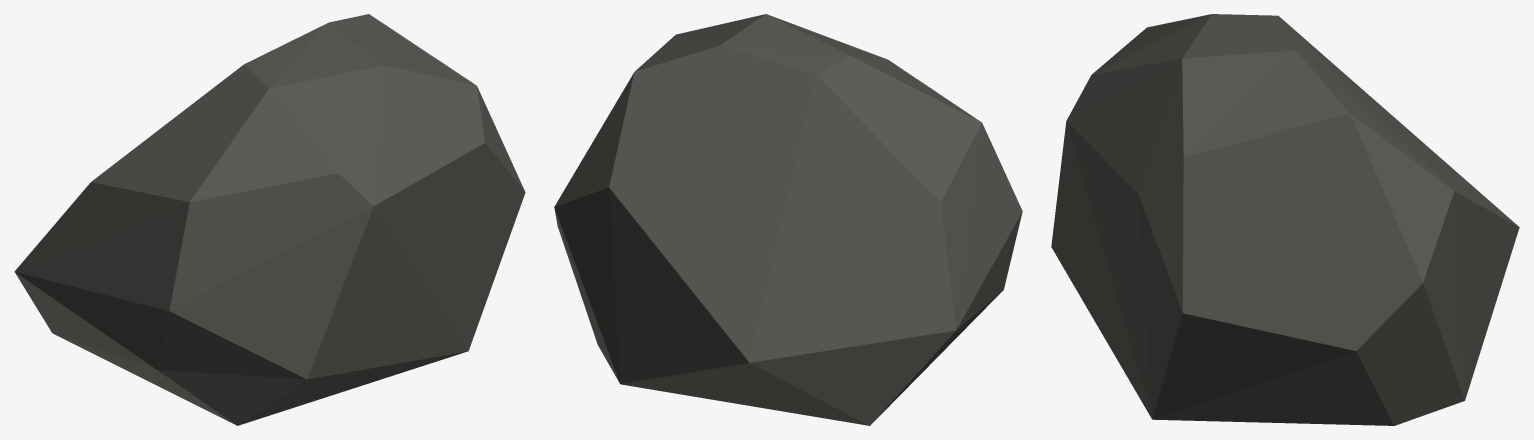
File: SM_Env_Rock_Small_03.fbx
3 renders of one model, left to right at view 1: azimuth 30°, elevation 25°; view 2: azimuth 150°, elevation 25°; view 3: azimuth 270°, elevation 25°, orthographic. The views are drawn at different scales.
Parts seen in each view (by area): view 1: SM_Env_Rock_Small_03; view 2: SM_Env_Rock_Small_03; view 3: SM_Env_Rock_Small_03.
Boxes of the visible parts, bbox=[...] form: SM_Env_Rock_Small_03: bbox=[14, 14, 525, 425]; SM_Env_Rock_Small_03: bbox=[554, 14, 1022, 425]; SM_Env_Rock_Small_03: bbox=[1051, 14, 1519, 425].
Size of the model in its own units: 88.41 by 60.47 by 76.49.
1 material, 1 textured.
